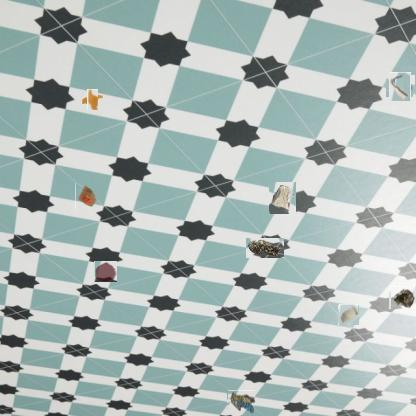dirty: (267, 184, 297, 214), (246, 238, 284, 258), (227, 390, 255, 415), (388, 74, 413, 99), (390, 286, 416, 309), (75, 183, 98, 209), (338, 305, 359, 325)
liquid: (94, 260, 117, 282), (84, 91, 100, 108)
